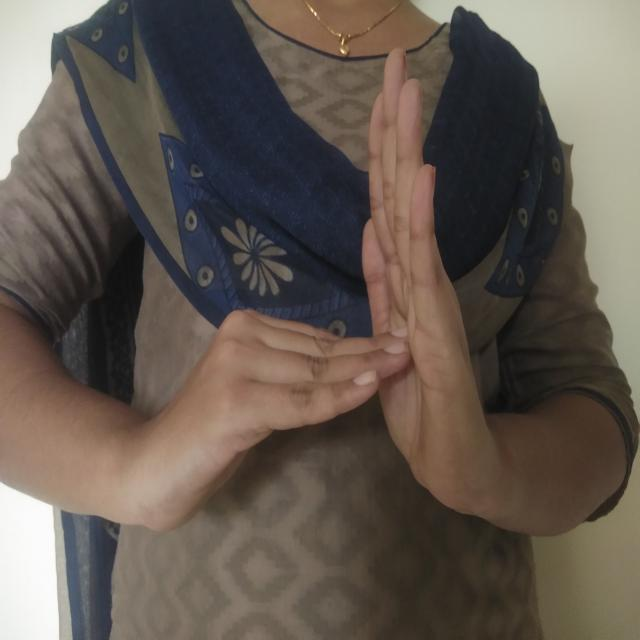Z: (152, 41, 501, 544)
